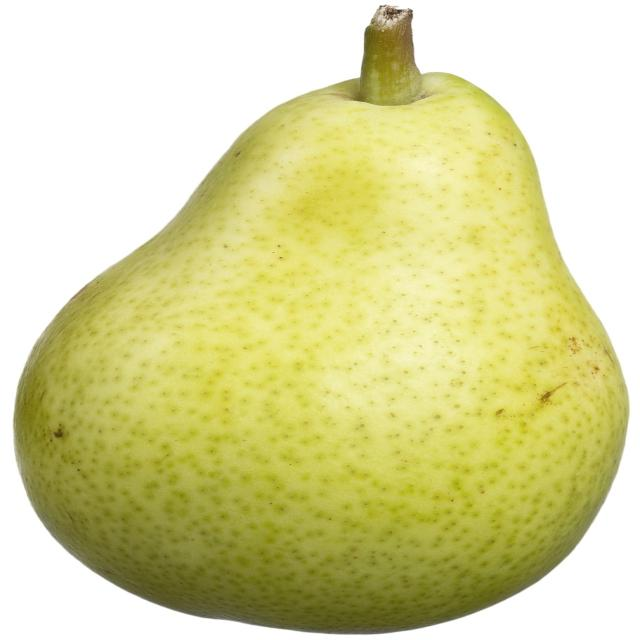pera: (9, 10, 640, 632)
